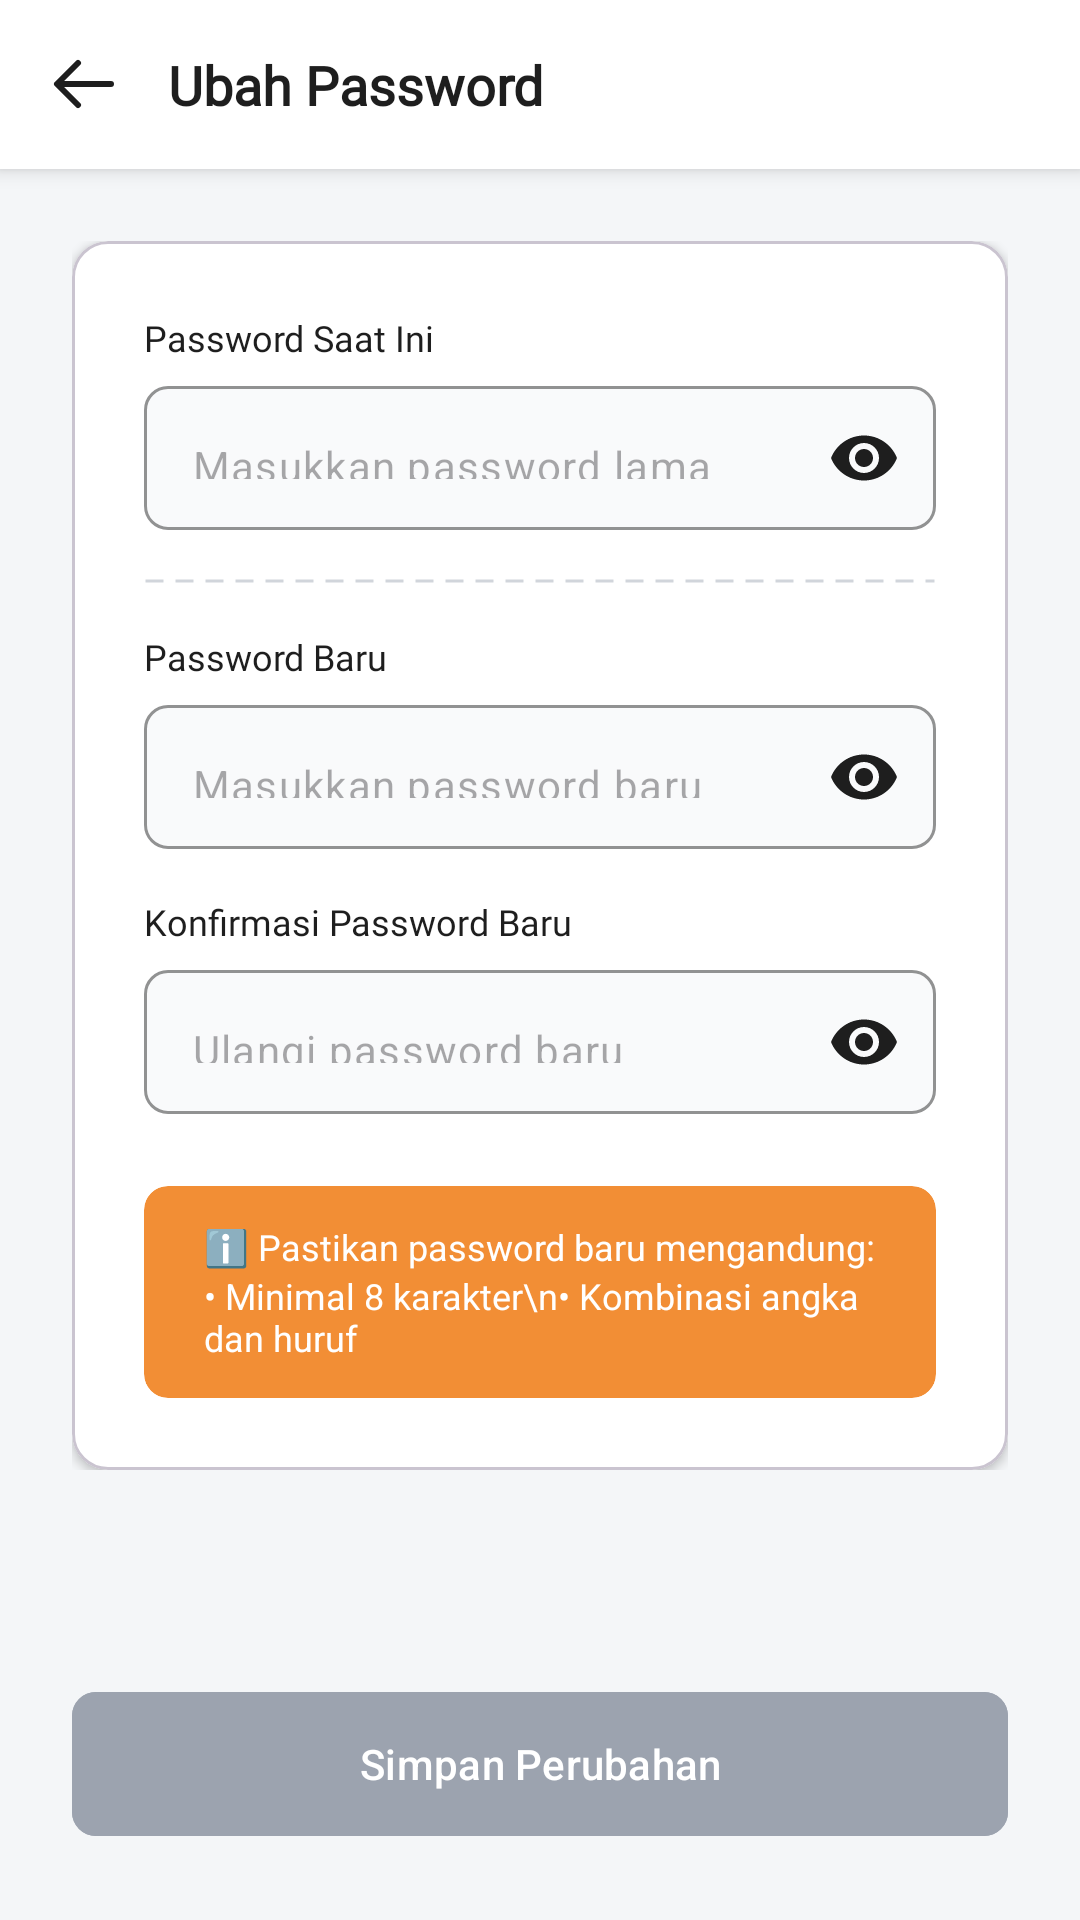

Screen size 1080×1920. Icon name, then its box in pixels as (x1, y1, x2, y2):
left arrow: (54, 60, 114, 108)
